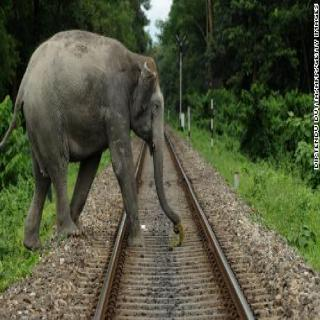Elephant: (14, 29, 191, 260)
